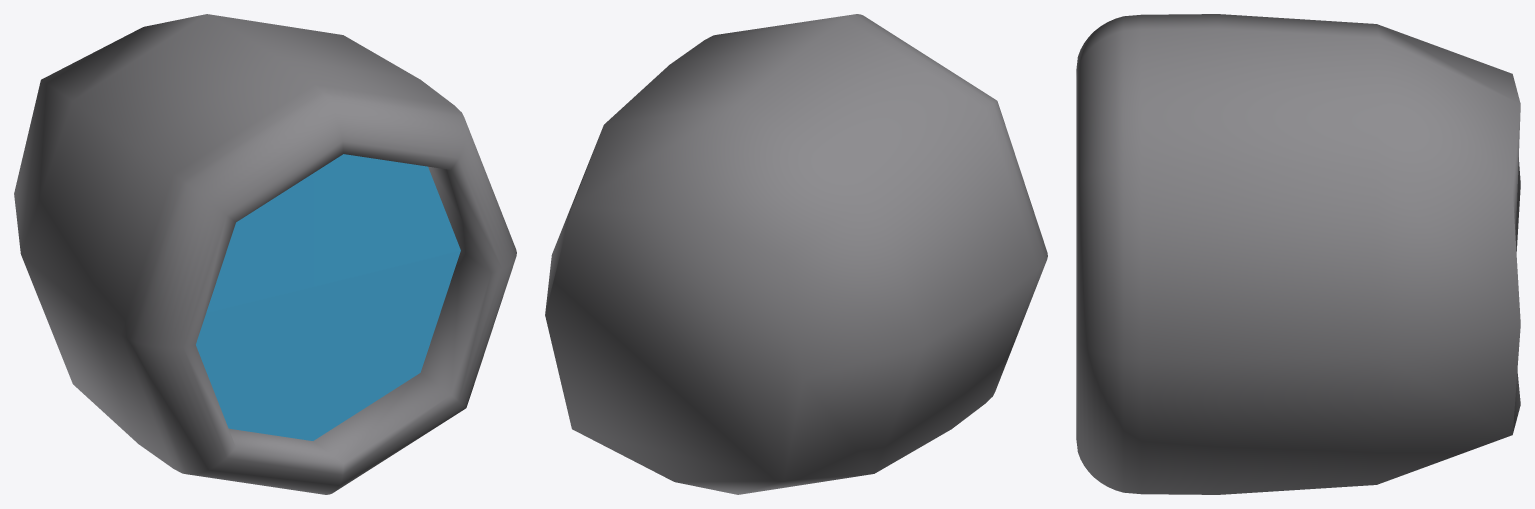
Rendered from bowl.fbx.
The picture shows the model from 3 angles, left to right: view 1: azimuth 30°, elevation 25°; view 2: azimuth 150°, elevation 25°; view 3: azimuth 270°, elevation 25°; orthographic projection. The views are drawn at different scales.
Parts seen in each view (by area): view 1: Cube, Cube.001; view 2: Cube; view 3: Cube.
Boxes of the visible parts, bbox=[...] form: Cube: bbox=[14, 14, 516, 494]; Cube.001: bbox=[196, 154, 460, 440]; Cube: bbox=[545, 14, 1047, 494]; Cube: bbox=[1076, 14, 1520, 494].
Bounding box in the file's own units: 183 × 183 × 164.
